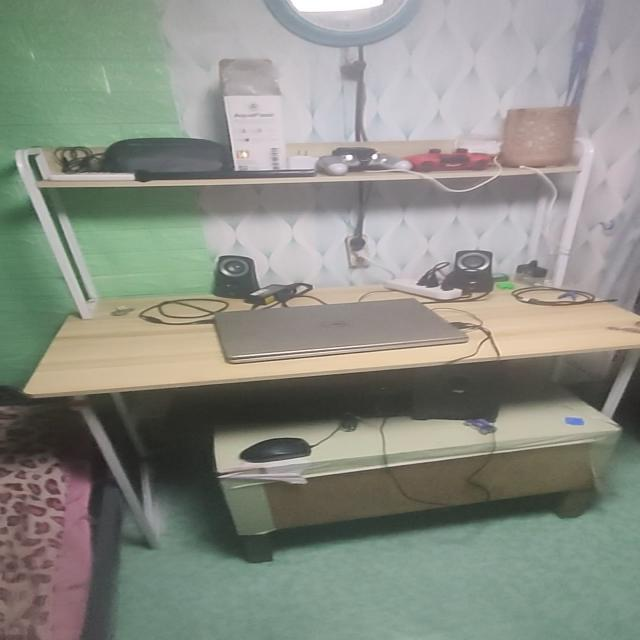table: (14, 265, 640, 561)
